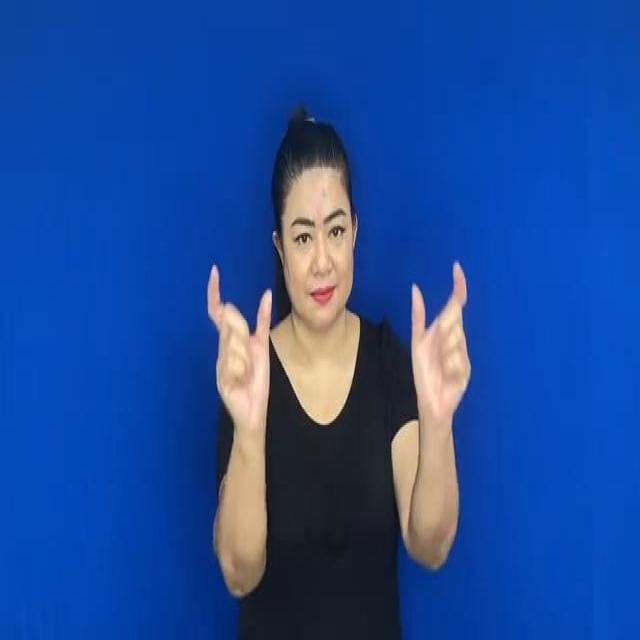crab: (196, 257, 488, 443)
